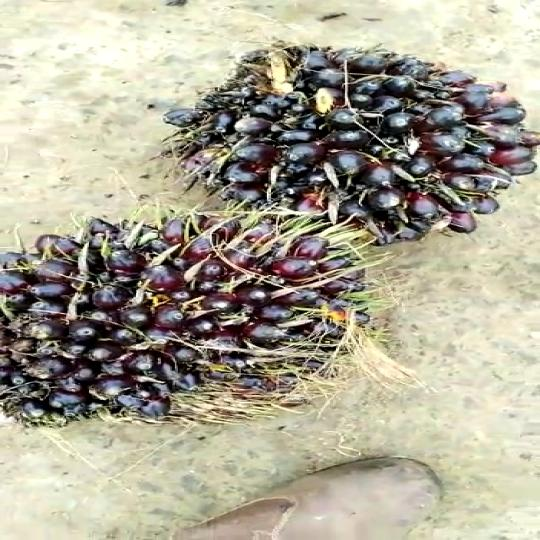mentah: (0, 207, 374, 436), (163, 37, 540, 243)
